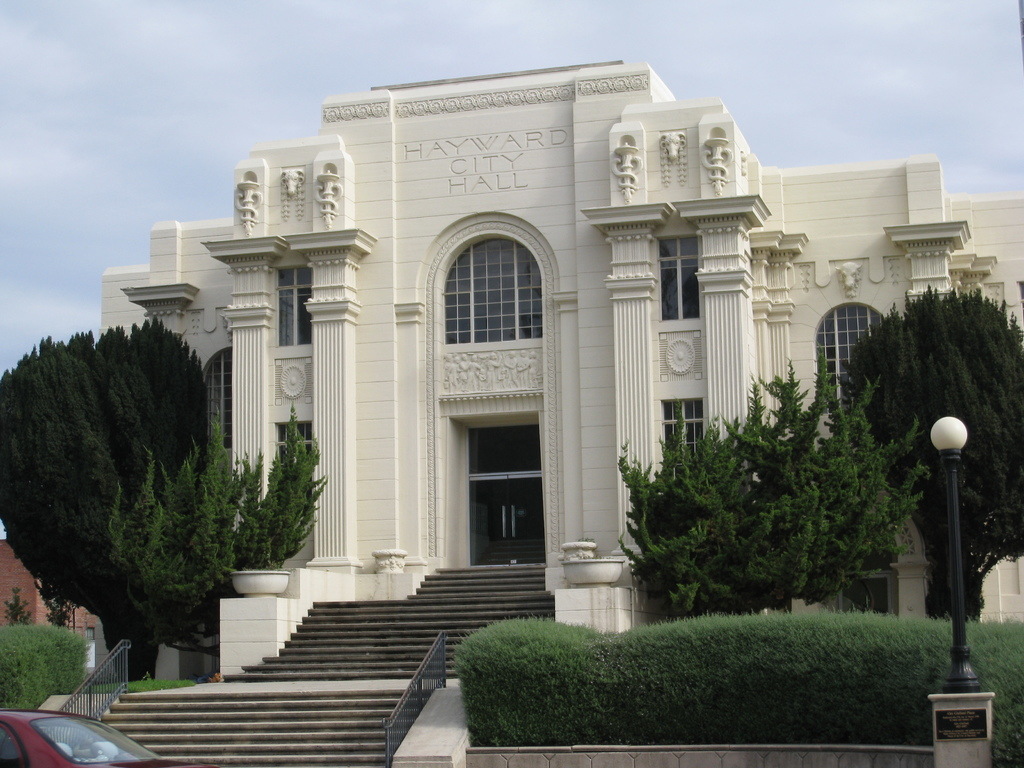Car: (0, 709, 217, 767)
